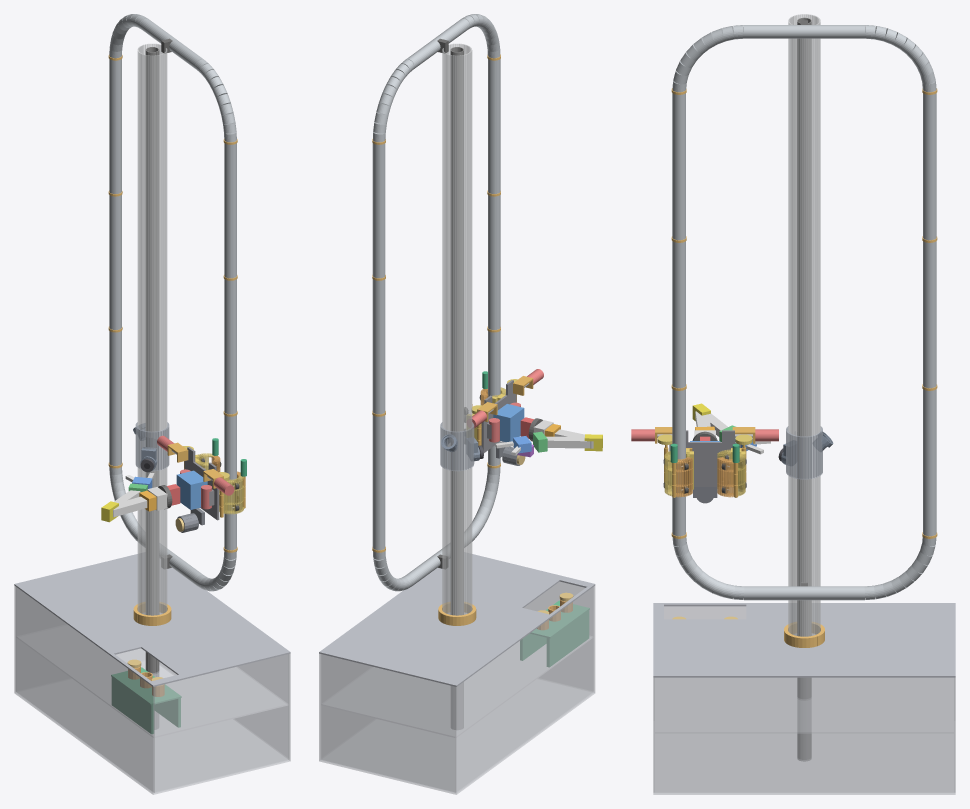
Rendered from transplant-seedling-step3-plug-v6.glb.
3 views of the same model, side by side, from view 1: azimuth 30°, elevation 25°; view 2: azimuth 150°, elevation 25°; view 3: azimuth 270°, elevation 25° (orthographic). The views are drawn at different scales.
Size of the model in its own units: 0.4858 by 1.9 by 0.751.
